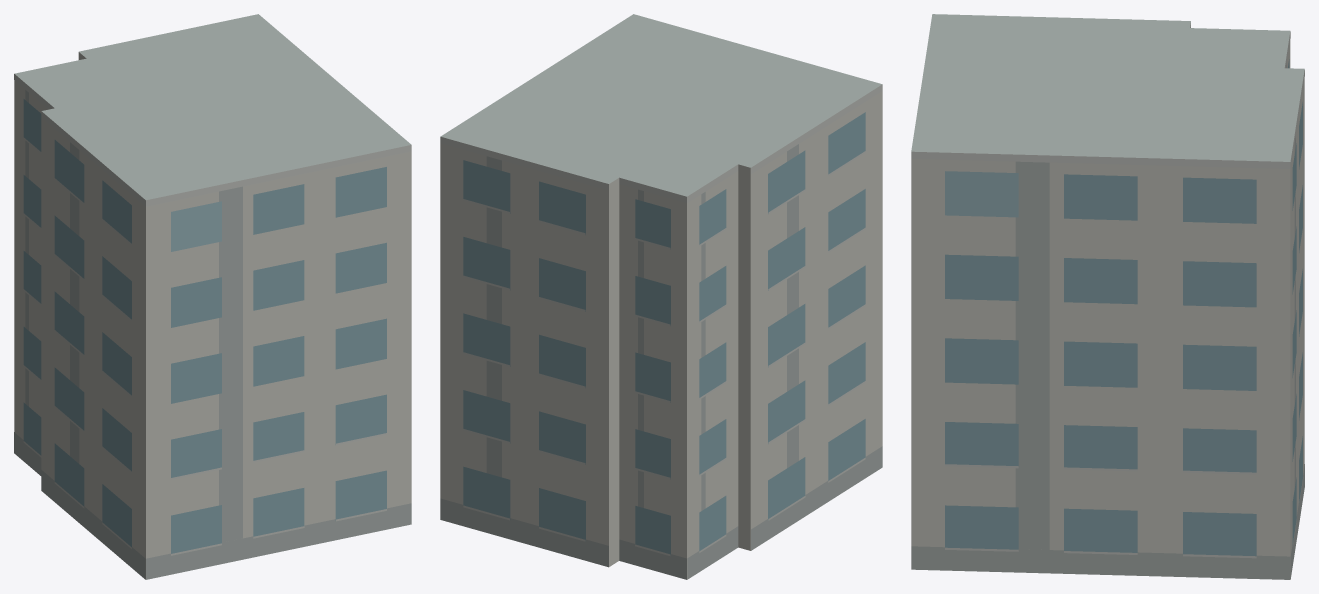
Rendered from survey-upis-32551425.glb.
3 views of the same model, side by side, from view 1: azimuth 30°, elevation 25°; view 2: azimuth 150°, elevation 25°; view 3: azimuth 270°, elevation 25° (orthographic). The views are drawn at different scales.
Parts seen in each view (by area): view 1: survey-upis-32551425.tmp; view 2: survey-upis-32551425.tmp; view 3: survey-upis-32551425.tmp.
Boxes of the visible parts, x1,y1,x2,y2 form: survey-upis-32551425.tmp: (14,14,411,579); survey-upis-32551425.tmp: (440,14,882,579); survey-upis-32551425.tmp: (911,14,1304,579).
Bounding box in the file's own units: 10.83 × 14.25 × 12.17.
